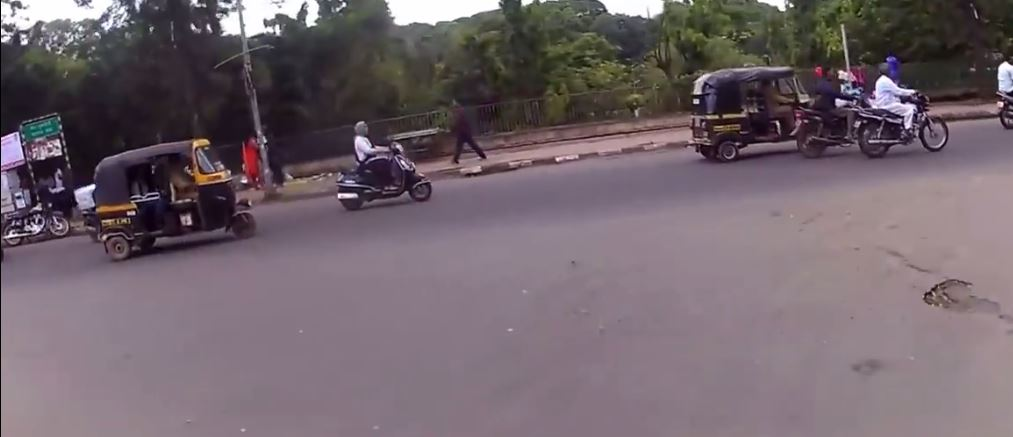autorickshaw: (83, 132, 265, 279), (686, 60, 832, 183)
